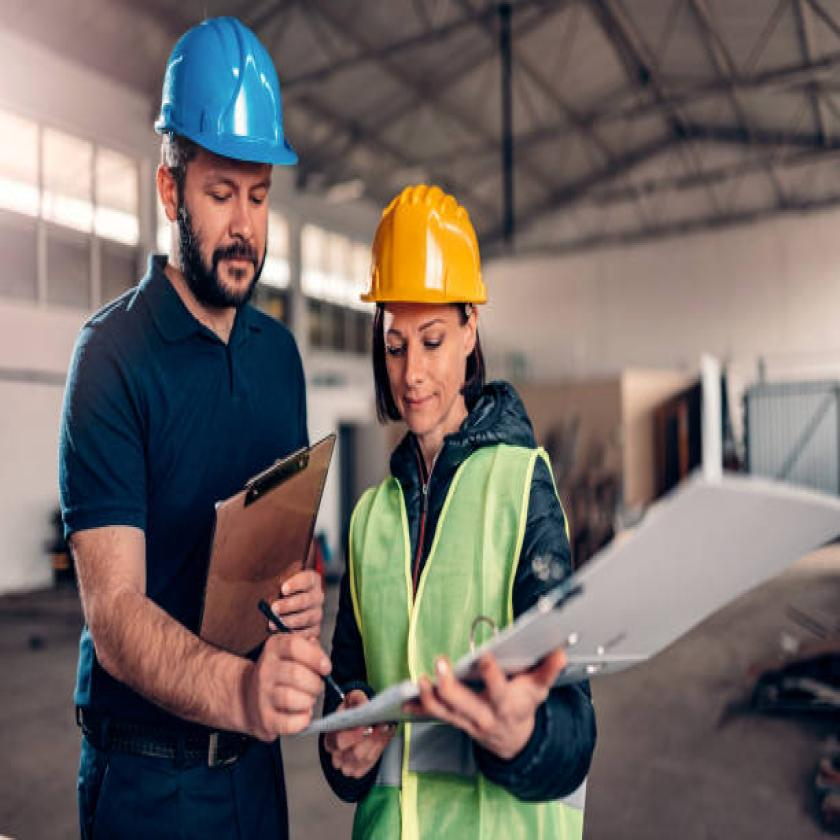Con_casco: (145, 0, 299, 327), (351, 165, 488, 426)
